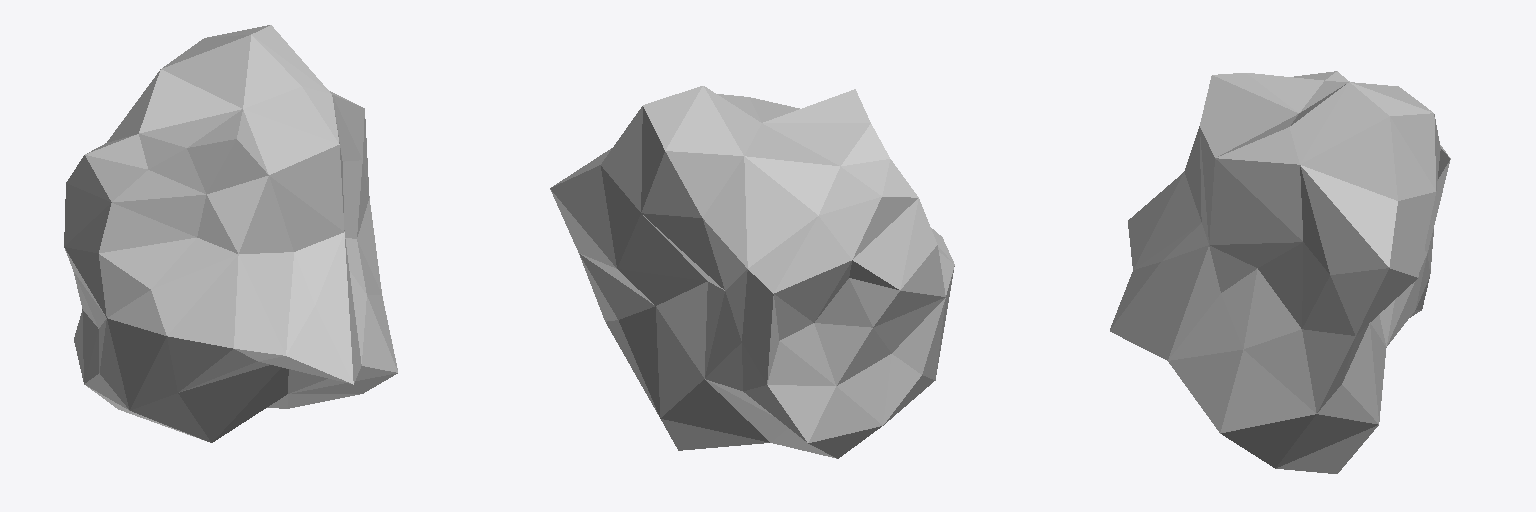
File: Meteor.obj
3 views of the same model, side by side, from view 1: azimuth 30°, elevation 25°; view 2: azimuth 150°, elevation 25°; view 3: azimuth 270°, elevation 25° (orthographic).
Parts seen in each view (by area): view 1: Meteor; view 2: Meteor; view 3: Meteor.
Part boxes in pixels (left/top/right/bottom): Meteor: left=64, top=25, right=397, bottom=442; Meteor: left=550, top=86, right=954, bottom=458; Meteor: left=1110, top=71, right=1450, bottom=473.
Bounding box in the file's own units: 8.26 × 9.1 × 7.47.